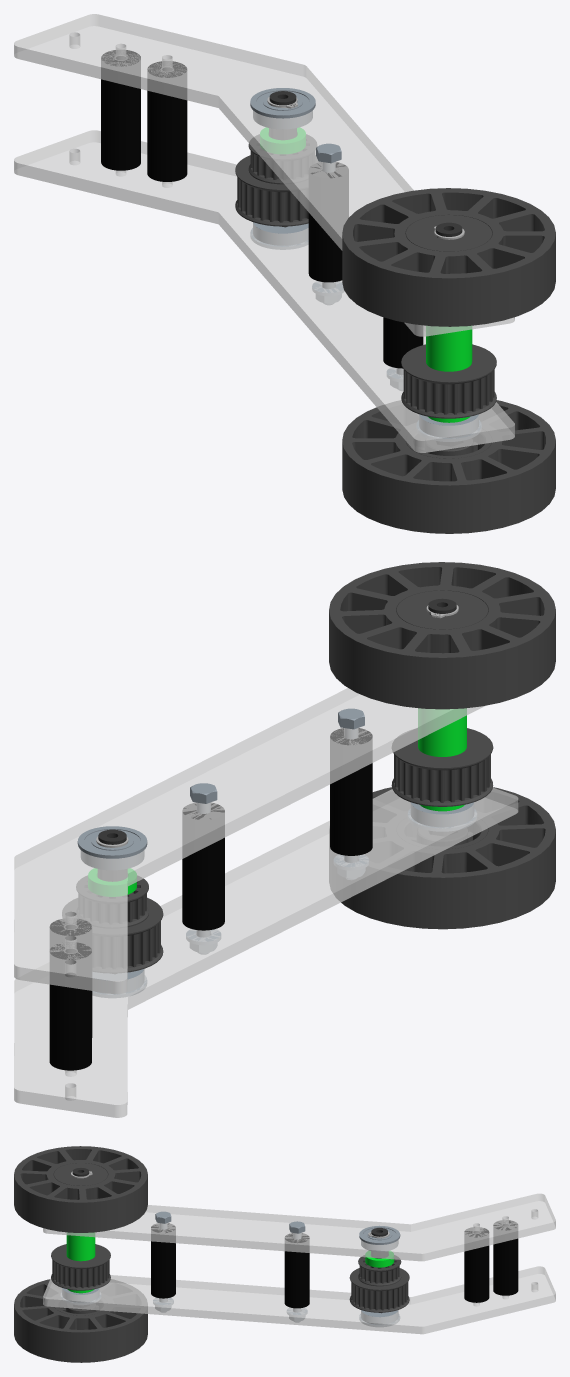
The picture shows the model from 3 angles, top to bottom: view 1: azimuth 30°, elevation 25°; view 2: azimuth 150°, elevation 25°; view 3: azimuth 270°, elevation 25°; orthographic projection. The views are drawn at different scales.
Visible parts, largest first — view 1: Intake Arm (×2), 4" OD 1/2" Hex Bore Compliant Wheel 35A (am-3480) (×2), ROUND Spacer 2.15 in (×4), 28T HTD Pulley 16mm Wide (×2), .5" Hex ID 1.125" OD Flanged Bearing (217-2734) (×3), 20T HTD Pulley 10mm Wide, [LS] 3Dp Spacer 13.970000000000002mm ID, 26.924000000000003m, [LS] 3Dp Spacer 13.970000000000002mm ID, 5.6865012mm L, Shaft, Hex bolt 1/4-20 x 3; view 2: Intake Arm (×2), 4" OD 1/2" Hex Bore Compliant Wheel 35A (am-3480) (×2), ROUND Spacer 2.15 in (×4), 28T HTD Pulley 16mm Wide (×2), .5" Hex ID 1.125" OD Flanged Bearing (217-2734) (×3), 20T HTD Pulley 10mm Wide, [LS] 3Dp Spacer 13.970000000000002mm ID, 26.924000000000003m, Hex bolt 1/4-20 x 3 (×2), [LS] 3Dp Spacer 13.970000000000002mm ID, 5.6865012mm L, Shaft; view 3: Intake Arm (×2), 4" OD 1/2" Hex Bore Compliant Wheel 35A (am-3480) (×2), ROUND Spacer 2.15 in (×4), 28T HTD Pulley 16mm Wide (×2), .5" Hex ID 1.125" OD Flanged Bearing (217-2734) (×3), 20T HTD Pulley 10mm Wide, [LS] 3Dp Spacer 13.970000000000002mm ID, 26.924000000000003m, [LS] 3Dp Spacer 13.970000000000002mm ID, 5.6865012mm L, Shaft.
Part boxes in pixels (x1,y1,x2,y2): Intake Arm (×2): (14,14,514,452); 4" OD 1/2" Hex Bore Compliant Wheel 35A (am-3480) (×2): (342,188,555,533); ROUND Spacer 2.15 in (×4): (101,50,423,368); 28T HTD Pulley 16mm Wide (×2): (235,155,496,418); .5" Hex ID 1.125" OD Flanged Bearing (217-2734) (×3): (250,88,481,441); 20T HTD Pulley 10mm Wide: (248,134,316,184); [LS] 3Dp Spacer 13.970000000000002mm ID, 26.924000000000003m: (426,326,472,371); [LS] 3Dp Spacer 13.970000000000002mm ID, 5.6865012mm L: (260,127,305,153); Shaft: (267,91,297,227); Hex bolt 1/4-20 x 3: (316,143,341,304); Intake Arm (×2): (14,688,518,1117); 4" OD 1/2" Hex Bore Compliant Wheel 35A (am-3480) (×2): (329,562,555,929); ROUND Spacer 2.15 in (×4): (49,728,372,1070); 28T HTD Pulley 16mm Wide (×2): (62,728,493,973); .5" Hex ID 1.125" OD Flanged Bearing (217-2734) (×3): (77,802,476,997); 20T HTD Pulley 10mm Wide: (76,876,148,928); [LS] 3Dp Spacer 13.970000000000002mm ID, 26.924000000000003m: (418,708,466,756); Hex bolt 1/4-20 x 3 (×2): (190,708,364,954); [LS] 3Dp Spacer 13.970000000000002mm ID, 5.6865012mm L: (88,868,136,896); Shaft: (96,829,128,973); Intake Arm (×2): (43,1193,555,1334); 4" OD 1/2" Hex Bore Compliant Wheel 35A (am-3480) (×2): (14,1146,147,1362); ROUND Spacer 2.15 in (×4): (151,1220,518,1308); 28T HTD Pulley 16mm Wide (×2): (51,1244,409,1312); .5" Hex ID 1.125" OD Flanged Bearing (217-2734) (×3): (60,1225,400,1326); 20T HTD Pulley 10mm Wide: (358,1255,401,1286); [LS] 3Dp Spacer 13.970000000000002mm ID, 26.924000000000003m: (66,1232,95,1261); [LS] 3Dp Spacer 13.970000000000002mm ID, 5.6865012mm L: (365,1251,394,1267); Shaft: (368,1228,389,1313).
Bounding box in the file's own units: 0.1218 × 0.1385 × 0.411.
